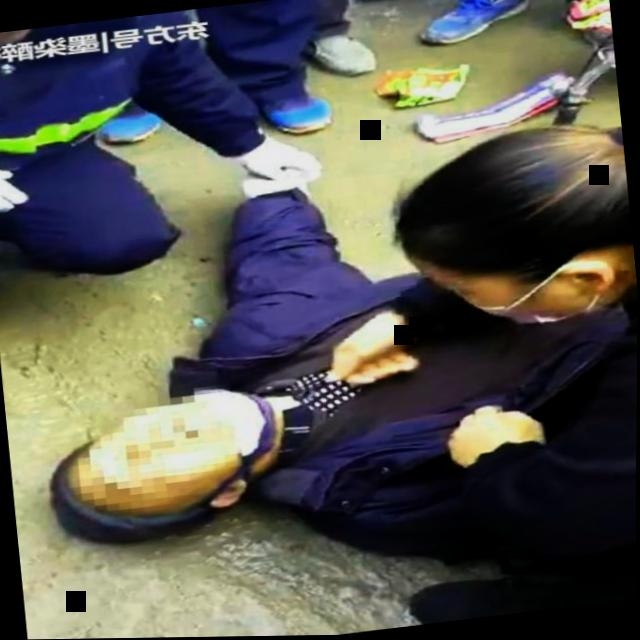Fall-Detected: (30, 93, 589, 640)
